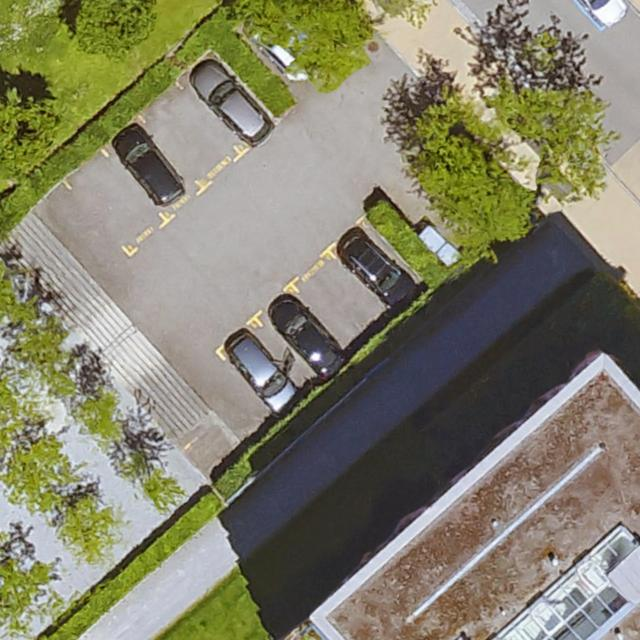tree: (389, 33, 616, 245), (228, 0, 375, 81), (0, 87, 58, 175), (72, 0, 156, 57)
